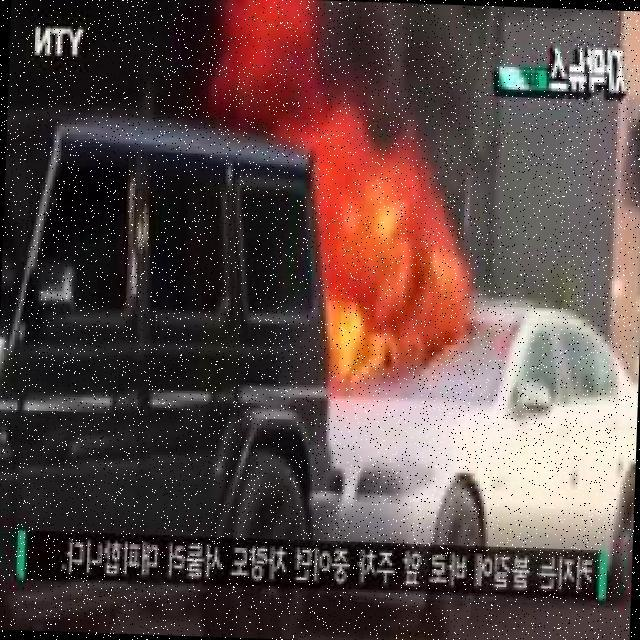Fire: (300, 88, 451, 393)
